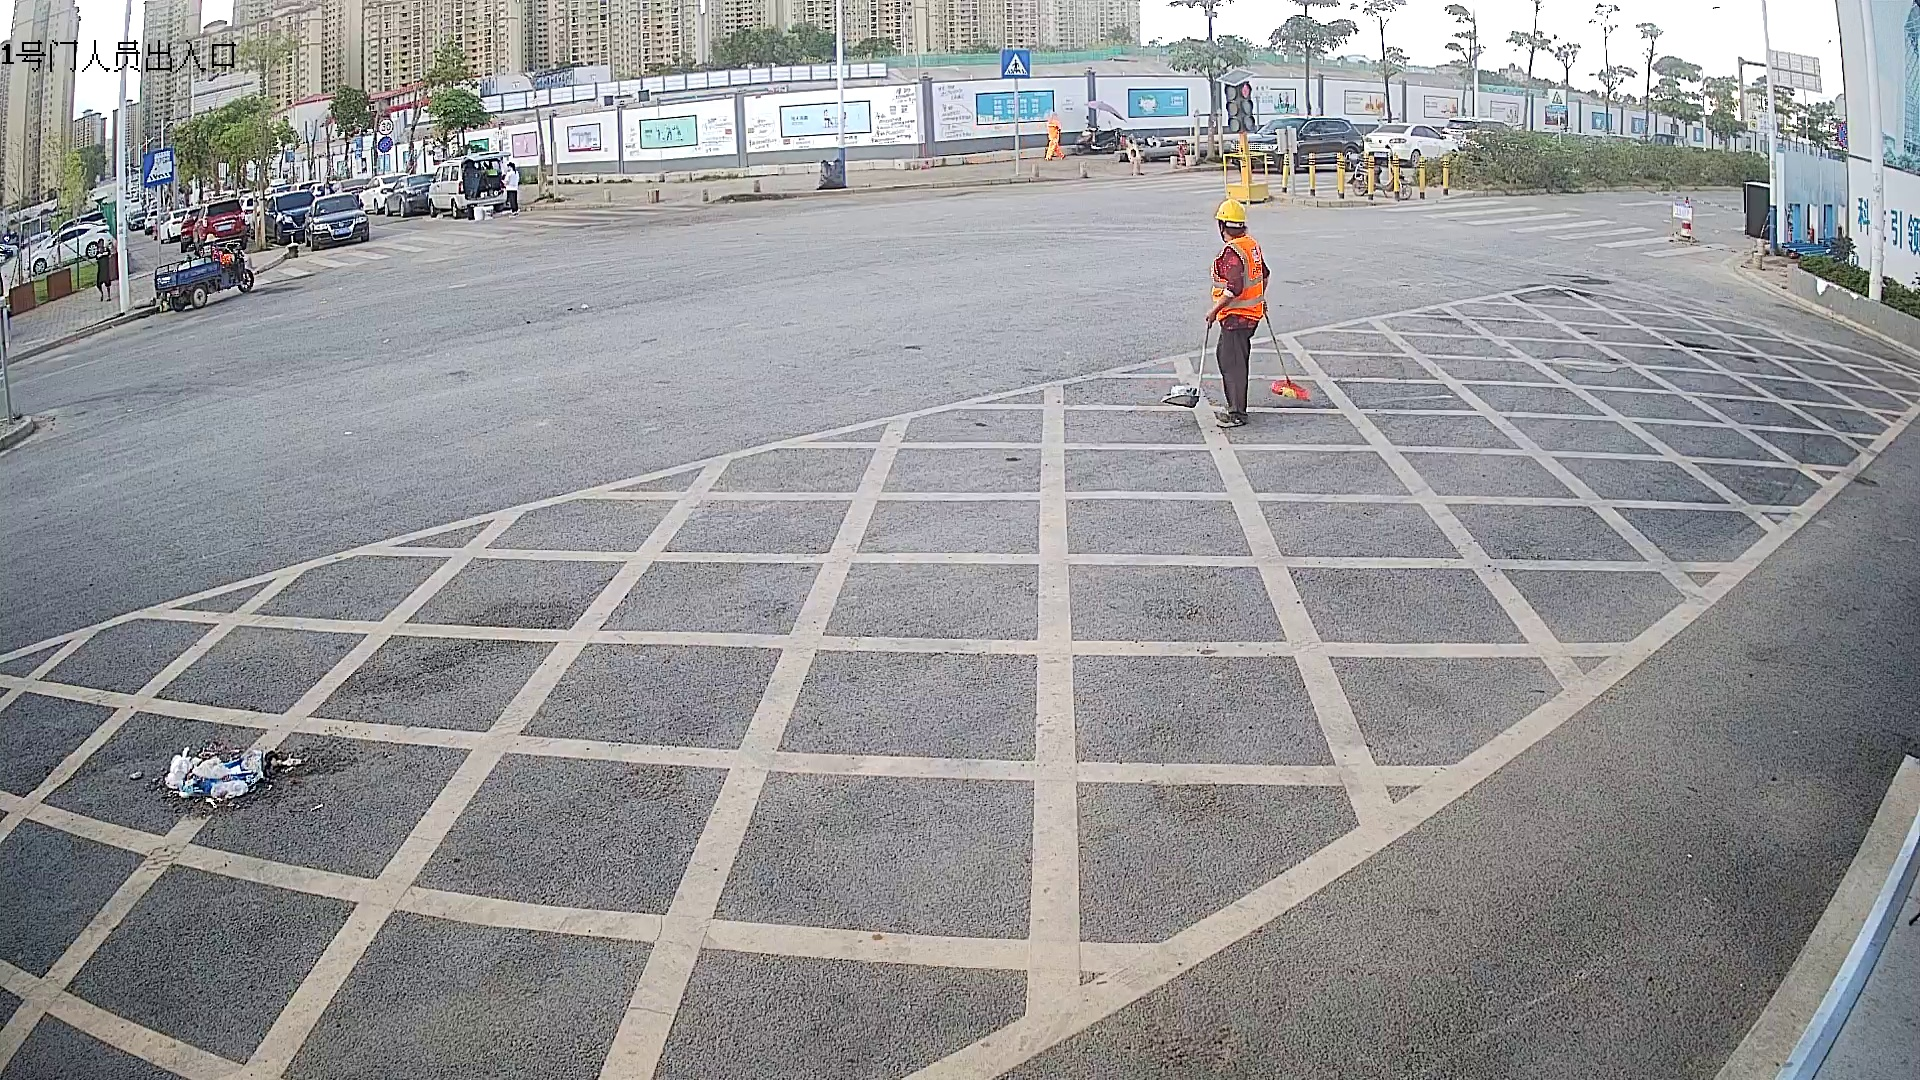person: (1204, 197, 1270, 428)
reflective_vest: (1210, 233, 1265, 323)
safety_helmet: (1215, 197, 1247, 242)
